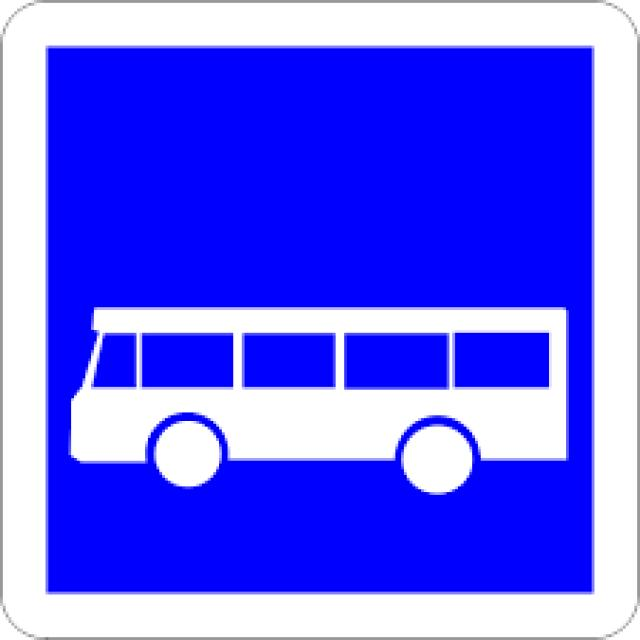ArretBus: (4, 16, 639, 638)
